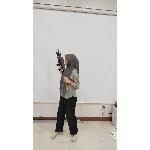Golok: (57, 56, 71, 92)
